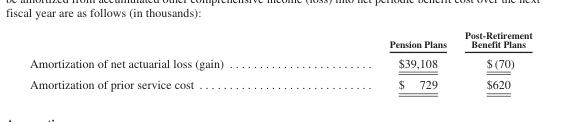table: (29, 28, 531, 90)
table column: (29, 28, 305, 90), (305, 28, 454, 90), (454, 28, 531, 90)
table column header: (29, 28, 531, 52)
table row: (29, 28, 531, 52), (29, 52, 531, 73), (29, 73, 531, 90)
